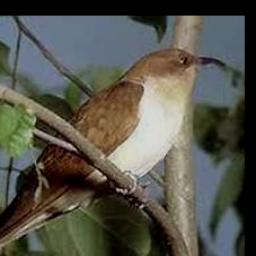Cuckoo: (0, 48, 227, 256)
